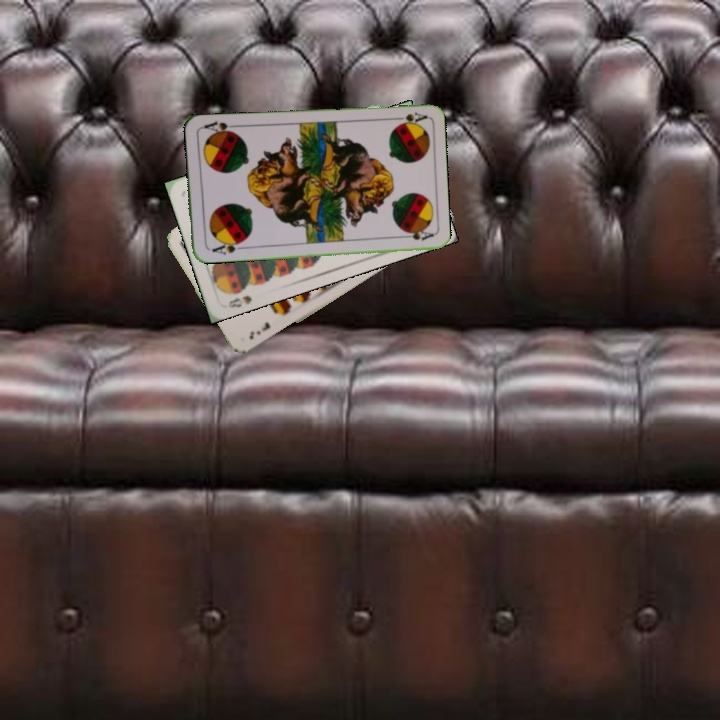E7: (245, 318, 273, 342)
S8: (224, 291, 254, 310)
SA: (205, 237, 246, 257), (388, 108, 428, 128)
